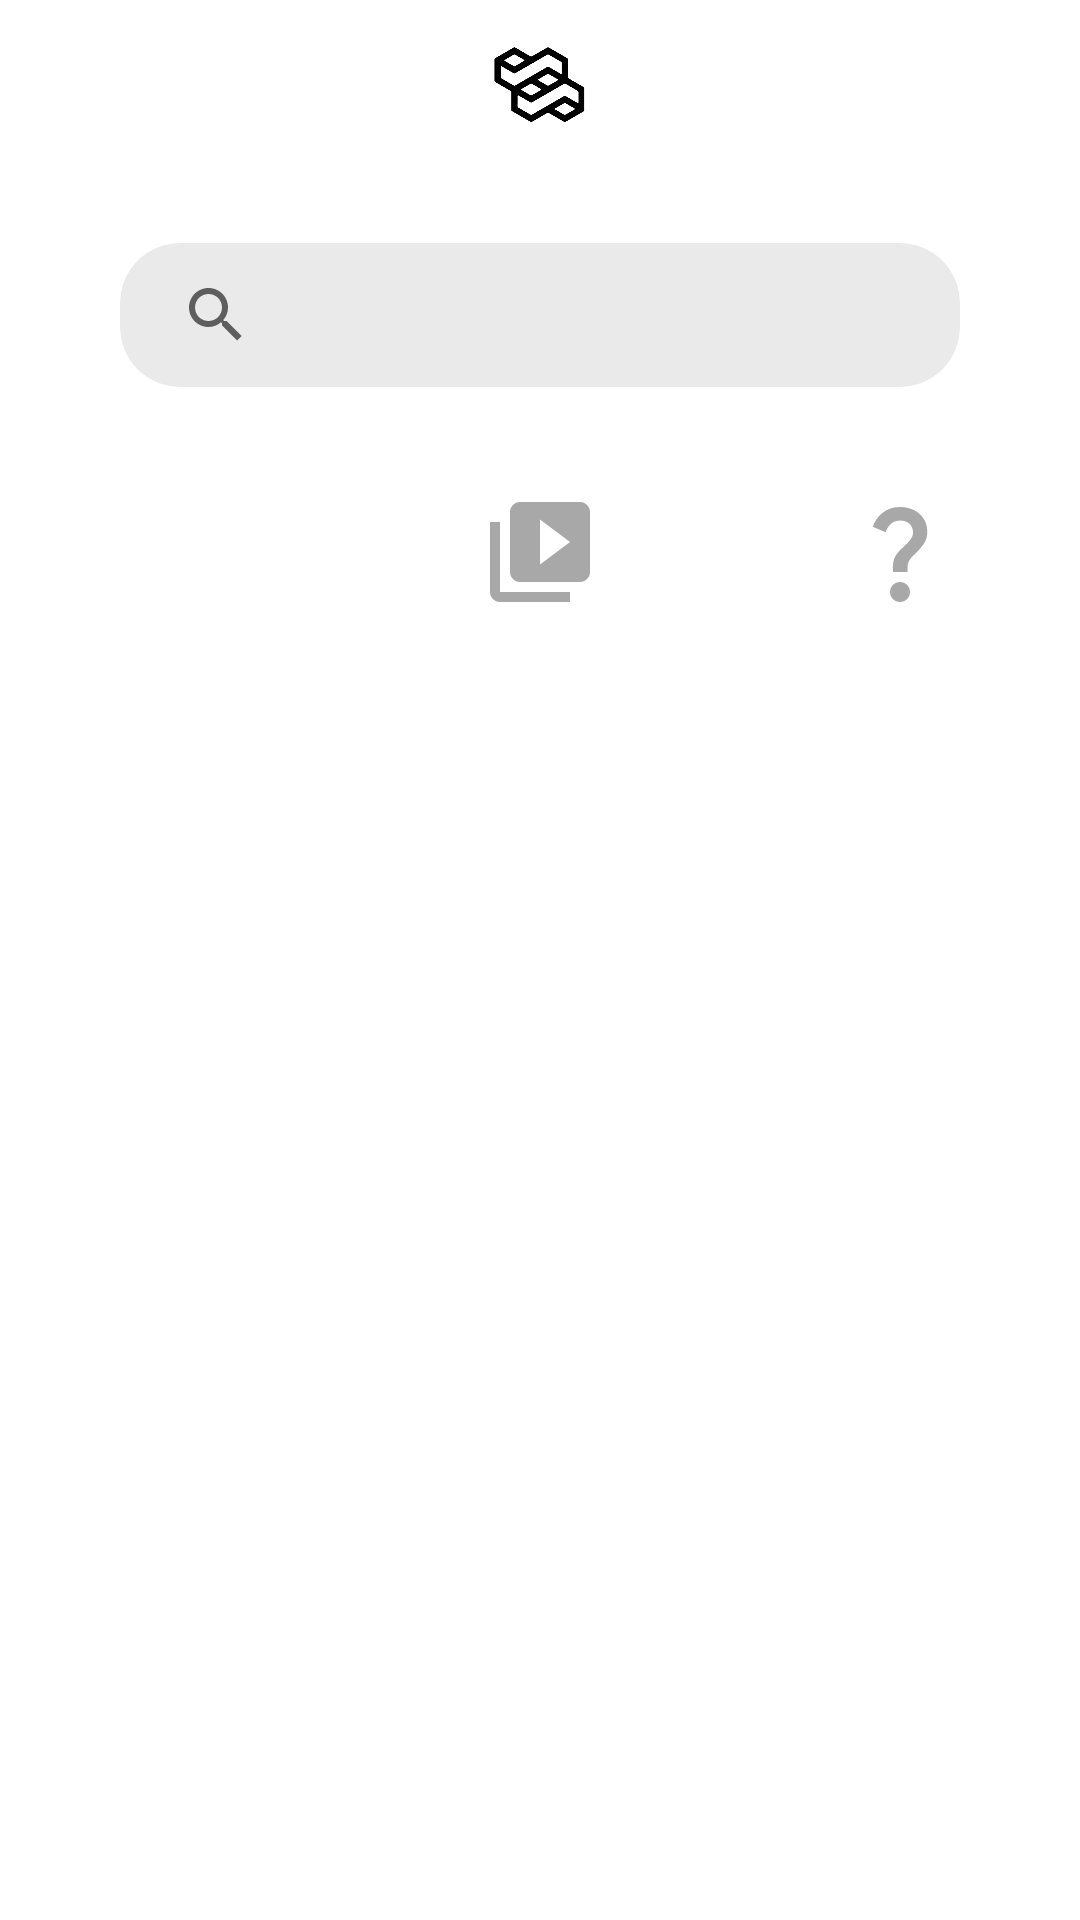

Screen size 1080×1920. Icon name, then its center in pixels as point (x, y):
unsel questions: point (900, 554)
unsel videos: point (540, 552)
